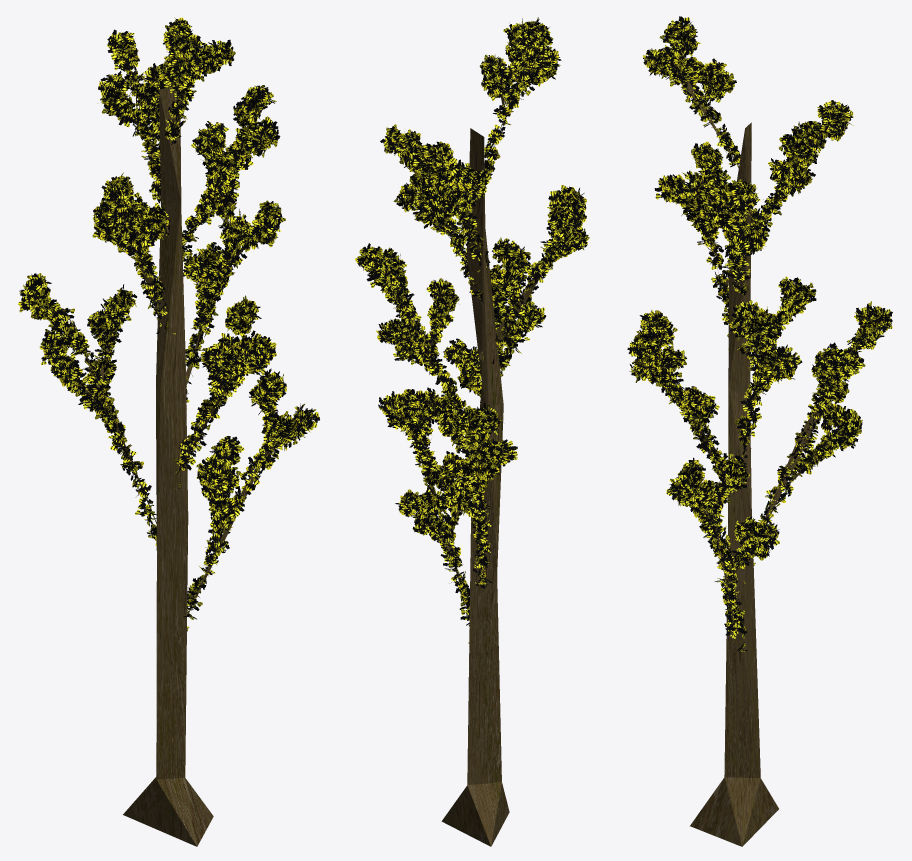
File: baldcypress_v03_LOD1.fbx
3 renders of one model, left to right at view 1: azimuth 30°, elevation 25°; view 2: azimuth 150°, elevation 25°; view 3: azimuth 270°, elevation 25°, orthographic. The views are drawn at different scales.
Visible parts, largest first — view 1: baldcypress_v03_LOD1; view 2: baldcypress_v03_LOD1; view 3: baldcypress_v03_LOD1.
Part boxes in pixels (<box>): baldcypress_v03_LOD1: <box>18,17,319,846</box>; baldcypress_v03_LOD1: <box>355,17,589,846</box>; baldcypress_v03_LOD1: <box>627,16,892,846</box>.
Size of the model in its own units: 867 by 992 by 3185.
Materials: 2 (2 with a texture image).
